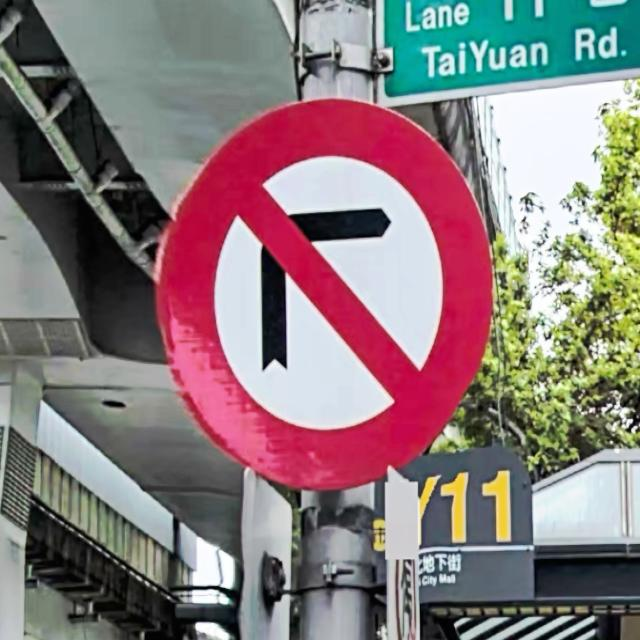noturnright: (156, 98, 496, 494)
